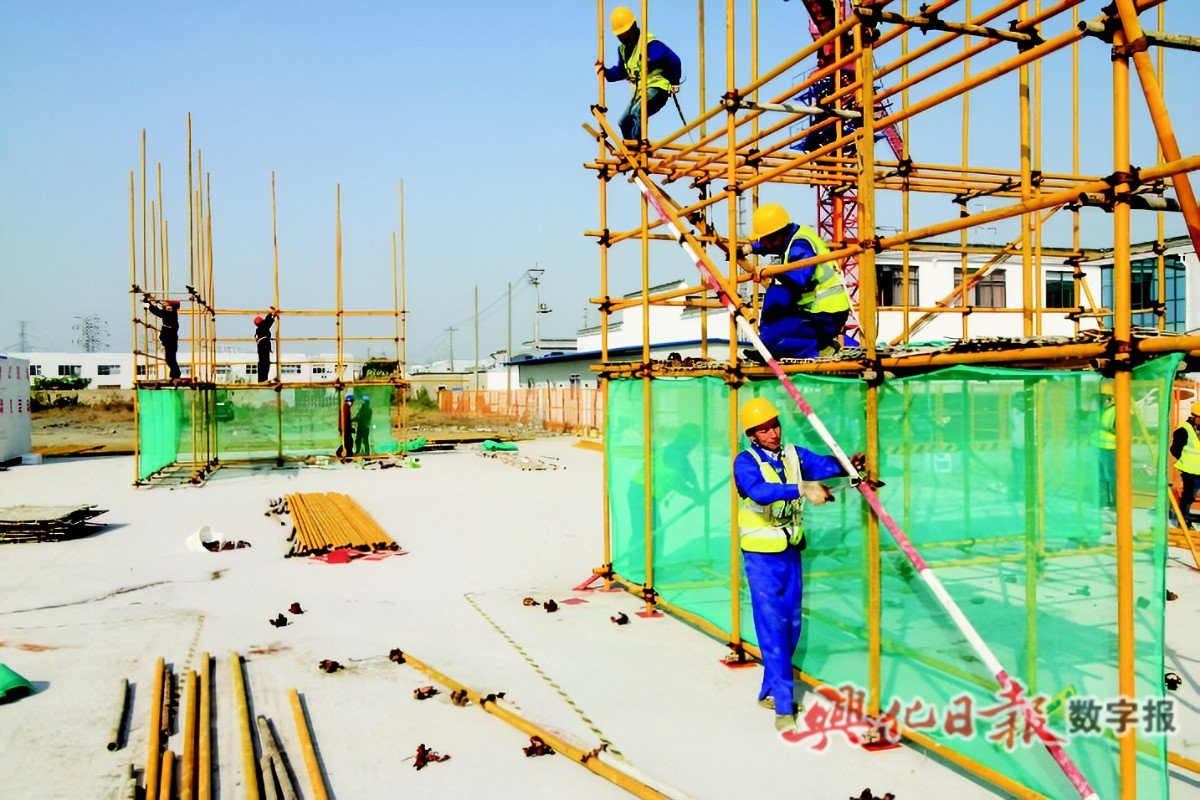safetyhat: (725, 391, 837, 734), (710, 186, 849, 354), (594, 1, 686, 135)
